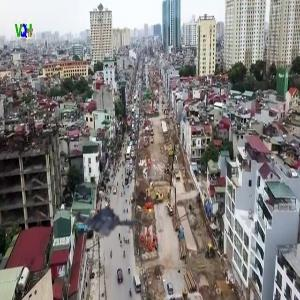drone: (59, 182, 147, 270)
